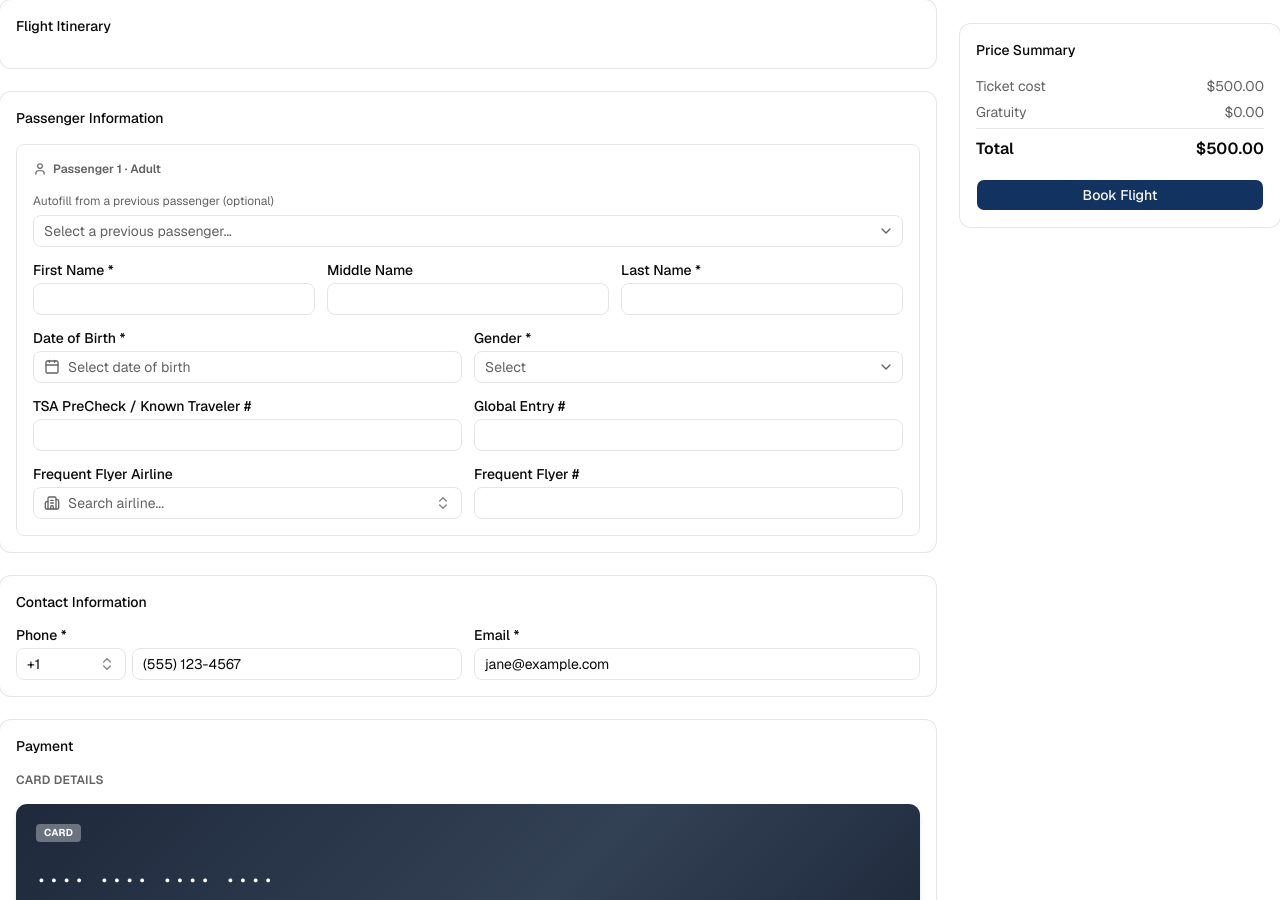
Test: BookingFlow — previous-passenger selector (Pass 24/25) › a customer with one previous passenger sees the selector, offering that one name
Click the dropdown named "autofill from a previous passenger".
click(138, 231)  # box [33,215,903,247]
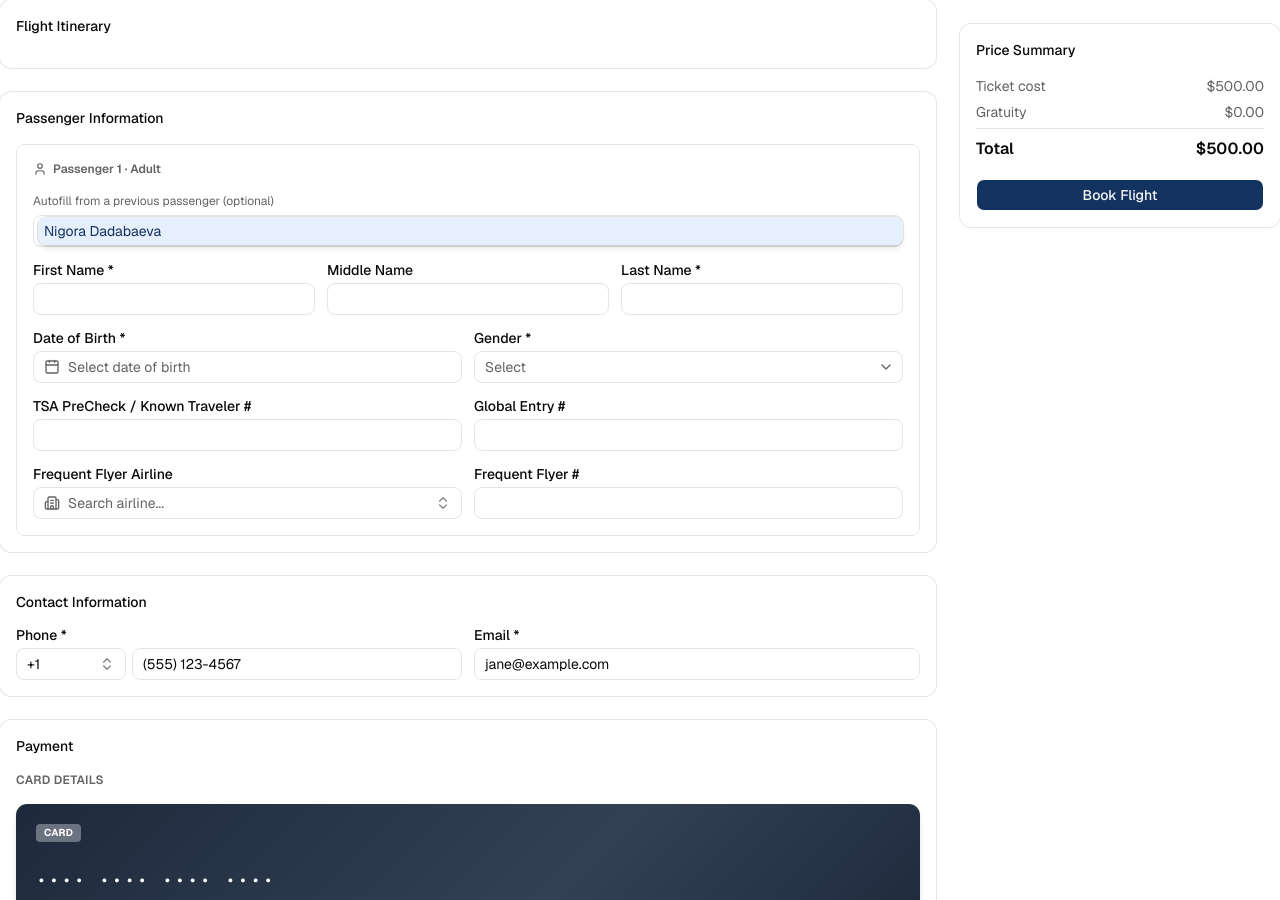
Expected: the option "Nigora Dadabaeva" is shown, [38,217,903,245]
